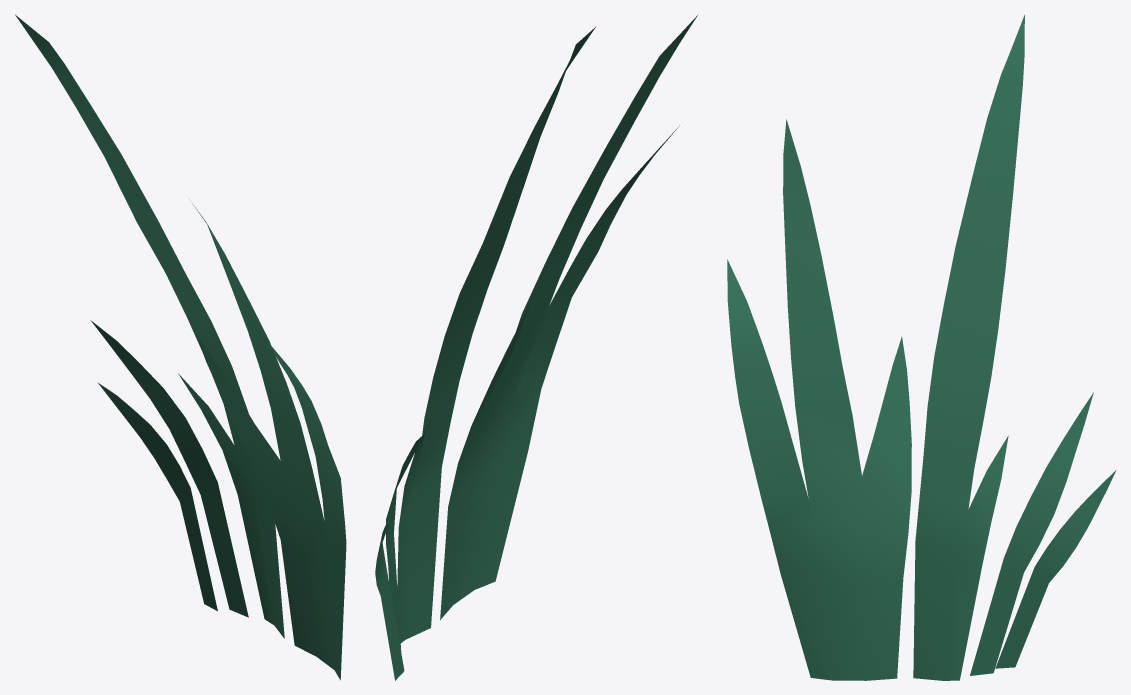
The model's file is plant_agave_D_comb.fbx.
3 views of the same model, side by side, from view 1: azimuth 30°, elevation 25°; view 2: azimuth 150°, elevation 25°; view 3: azimuth 270°, elevation 25° (orthographic). The views are drawn at different scales.
Visible parts, largest first — view 1: plant_agave_D_comb_leaf_A, plant_agave_D_comb_leaf_B, plant_agave_D_comb_leaf_C, plant_agave_D_comb_leaf_D; view 2: plant_agave_D_comb_leaf_A, plant_agave_D_comb_leaf_B, plant_agave_D_comb_leaf_D, plant_agave_D_comb_leaf_C; view 3: plant_agave_D_comb_leaf_A, plant_agave_D_comb_leaf_B, plant_agave_D_comb_leaf_C, plant_agave_D_comb_leaf_D.
Part boxes in pixels (bbox=[...]): plant_agave_D_comb_leaf_A: bbox=[189, 199, 346, 680]; plant_agave_D_comb_leaf_B: bbox=[15, 14, 284, 638]; plant_agave_D_comb_leaf_C: bbox=[90, 320, 248, 617]; plant_agave_D_comb_leaf_D: bbox=[98, 383, 217, 611]; plant_agave_D_comb_leaf_A: bbox=[440, 15, 697, 619]; plant_agave_D_comb_leaf_B: bbox=[397, 27, 595, 643]; plant_agave_D_comb_leaf_D: bbox=[375, 524, 404, 680]; plant_agave_D_comb_leaf_C: bbox=[386, 433, 424, 651]; plant_agave_D_comb_leaf_A: bbox=[727, 119, 911, 680]; plant_agave_D_comb_leaf_B: bbox=[913, 14, 1024, 680]; plant_agave_D_comb_leaf_C: bbox=[970, 392, 1093, 675]; plant_agave_D_comb_leaf_D: bbox=[995, 470, 1116, 668].
Bounding box in the file's own units: 14 × 39.25 × 24.23.
